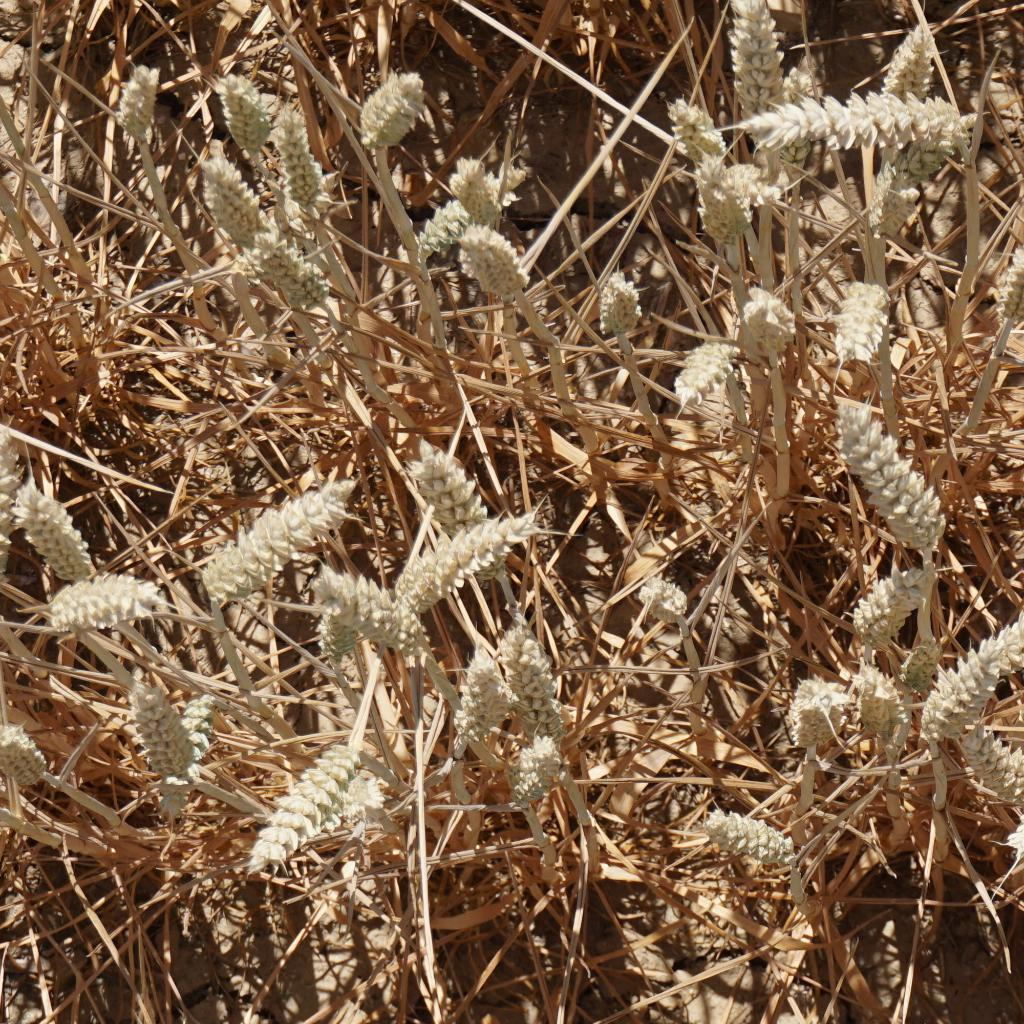0-0: (826, 398, 948, 544), (376, 526, 540, 618), (240, 735, 352, 866), (917, 590, 1024, 725), (219, 476, 344, 584), (738, 80, 900, 152), (495, 617, 580, 736), (830, 551, 927, 645), (328, 566, 425, 658), (170, 694, 236, 828), (888, 85, 978, 180), (684, 799, 793, 876), (38, 567, 170, 630), (196, 132, 264, 240), (442, 636, 516, 728), (274, 96, 327, 223), (718, 5, 790, 98), (947, 711, 1024, 796), (260, 243, 341, 323), (403, 453, 499, 520), (22, 483, 93, 572), (493, 723, 571, 803), (820, 283, 894, 367), (124, 678, 190, 769), (689, 162, 759, 247), (201, 68, 271, 152), (837, 655, 907, 739), (356, 83, 438, 149), (873, 21, 943, 96), (460, 234, 533, 304), (668, 335, 746, 400), (776, 671, 844, 743), (659, 92, 723, 162), (119, 62, 172, 143), (722, 162, 787, 223), (995, 187, 1024, 320), (739, 287, 796, 354), (592, 277, 649, 339), (301, 597, 355, 662), (224, 216, 291, 268), (0, 719, 54, 782), (440, 170, 504, 221), (992, 755, 1024, 856), (641, 571, 692, 630), (867, 173, 918, 231), (403, 197, 453, 251), (338, 762, 382, 823), (780, 52, 824, 96)
